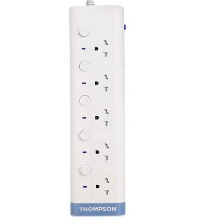three_eye_plug: (65, 1, 130, 220)
